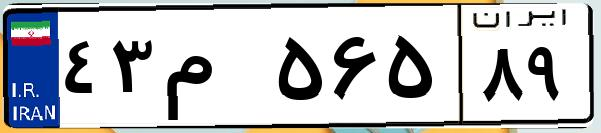3: (110, 28, 158, 98)
4: (57, 26, 110, 100)
5: (270, 28, 330, 110), (385, 28, 445, 110)
6: (330, 28, 385, 110)
8: (475, 38, 525, 113)
9: (525, 38, 570, 115)
م: (158, 20, 270, 120)
